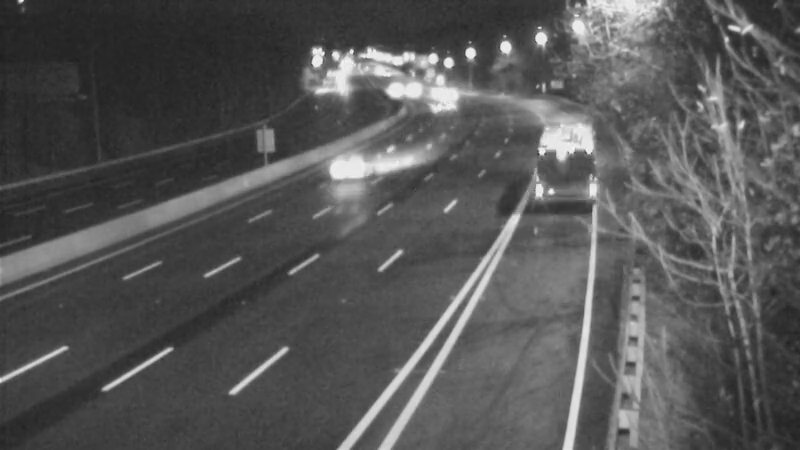vehicle: (312, 123, 392, 203), (388, 65, 438, 115), (365, 64, 415, 114), (410, 72, 460, 122), (426, 71, 476, 121), (414, 81, 464, 131), (529, 121, 579, 171)
